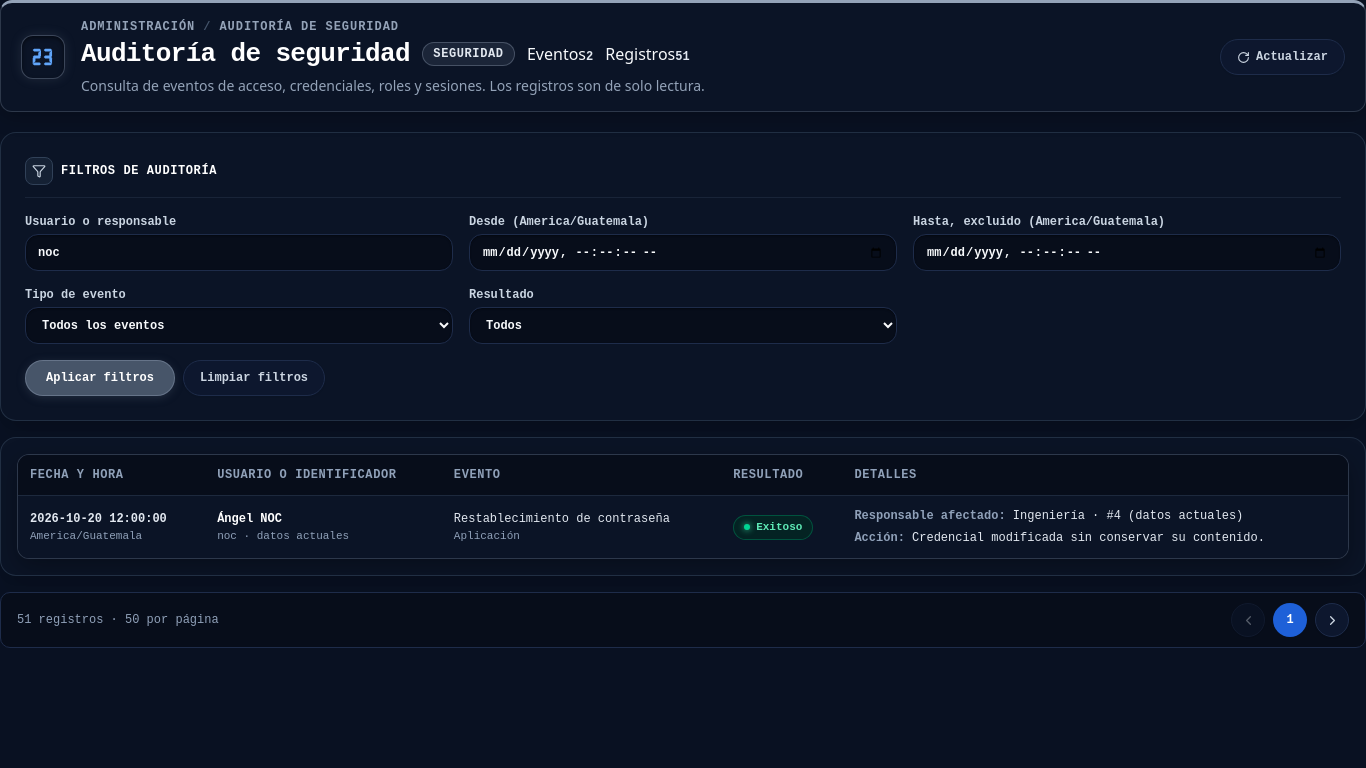
Scenario: pagina de 50 en 50 y conserva los filtros
The width and height of the screenshot is (1366, 768).
Expected: the text "Ángel NOC" is shown, [217,512,282,526]
Expected: the button named "Anterior" is disabled, [1231,603,1265,637]
What coordinates should you click on to do the following:
click the button named "Siguiente"
I would click on:
 (1332, 620)
Its box is [1315,603,1349,637].
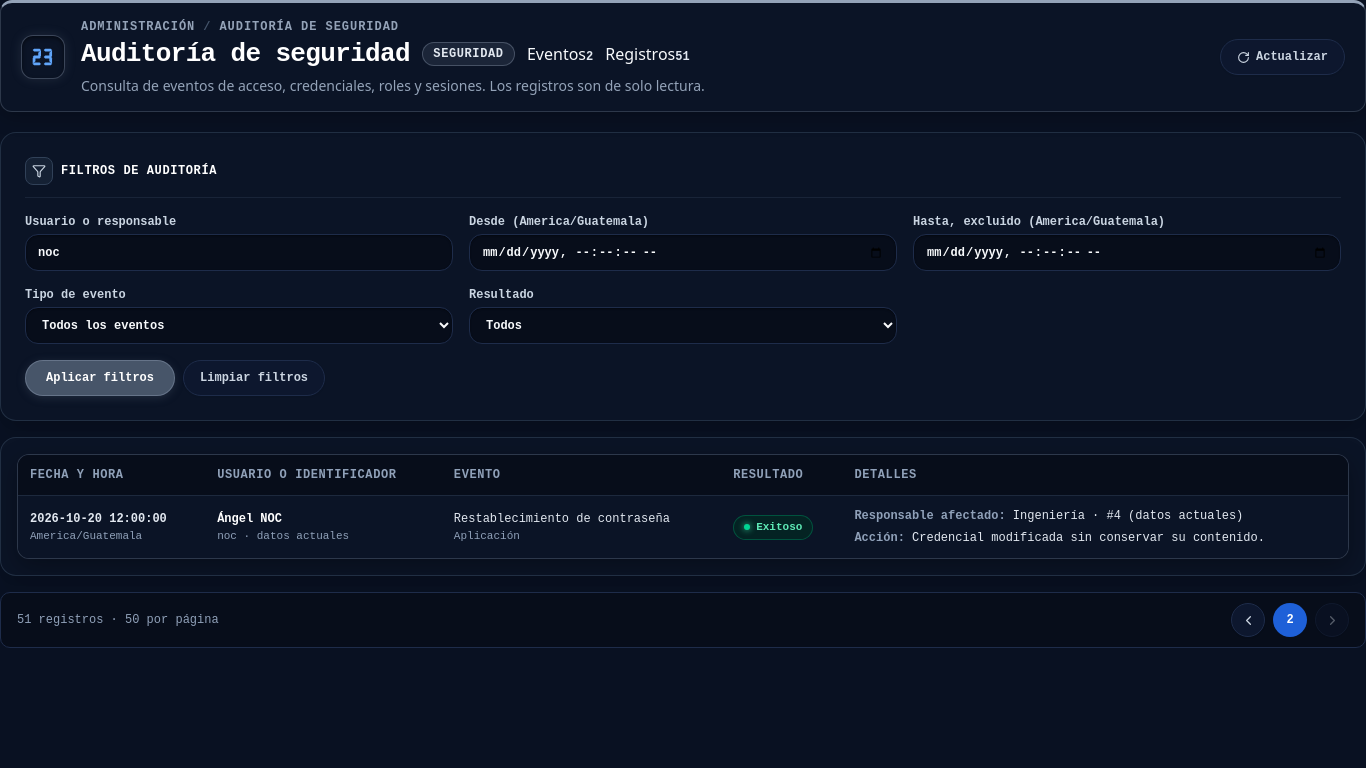
Expected: the text "Ángel NOC" is shown, [217,512,282,526]
Expected: the text named "Página 2" is shown, [1273,603,1307,637]
Expected: the button named "Siguiente" is disabled, [1315,603,1349,637]
What coordinates should you click on to do the following:
click the button named "Anterior"
I would click on:
 (1248, 620)
Its box is [1231,603,1265,637].
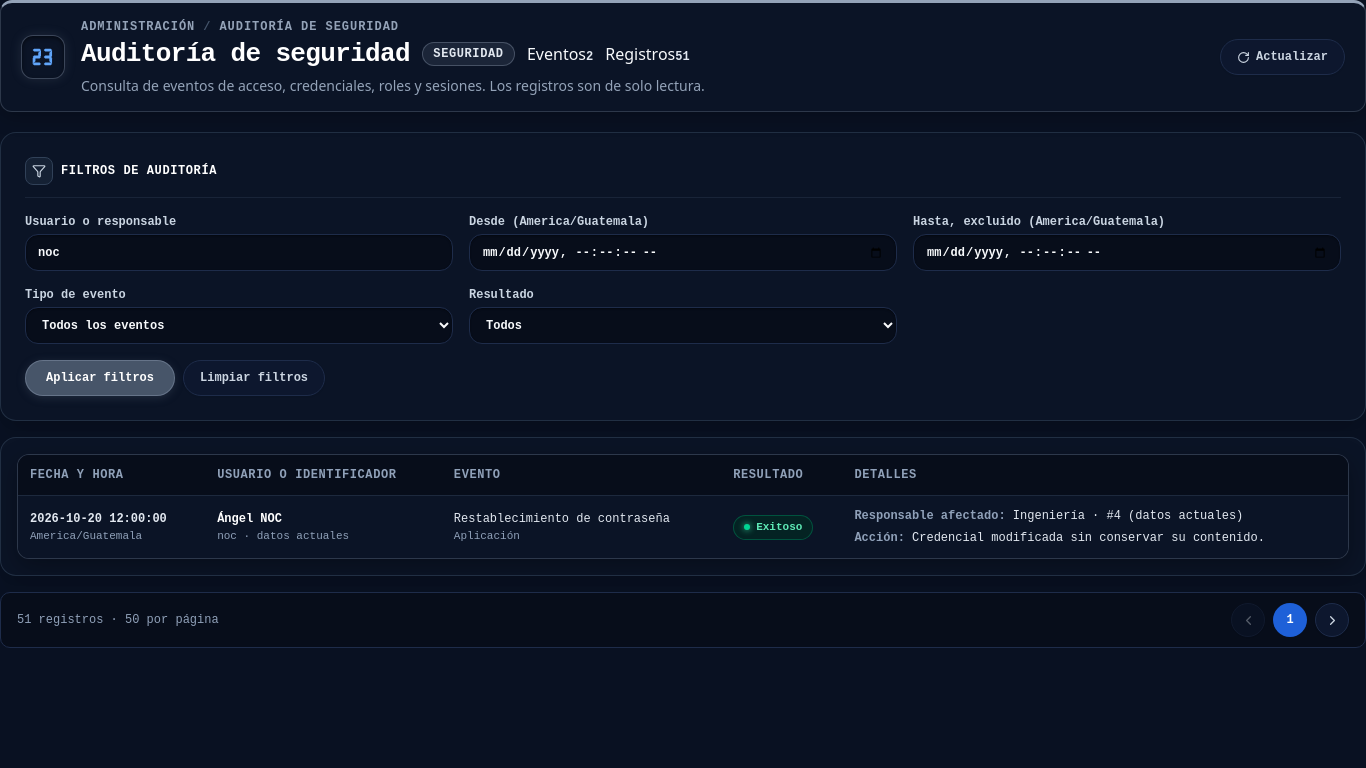
Expected: the text "Ángel NOC" is shown, [217,512,282,526]
Expected: the text named "Página 1" is shown, [1273,603,1307,637]
